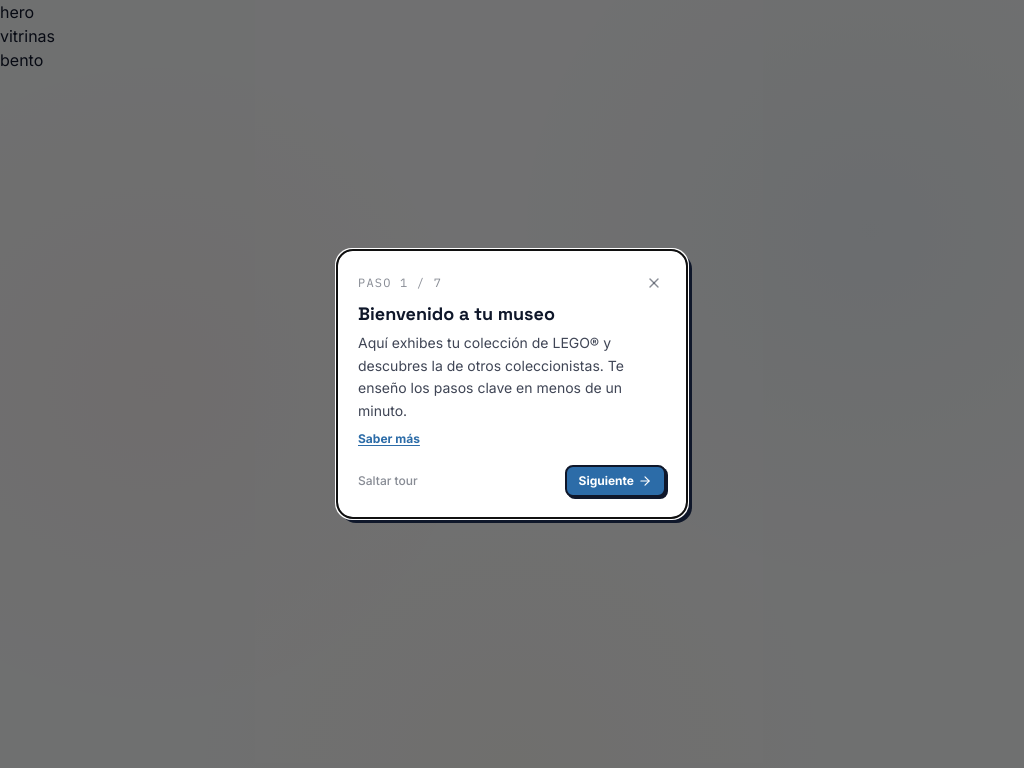
Test: TourOverlay › retrocede con 'Anterior' (visible solo a partir del paso 2)
Expected: the dialog is shown, [336,249,688,519]
Expected: the button "anterior" is not shown
Click the button "Siguiente".
click(615, 481)  # box [564,465,666,497]
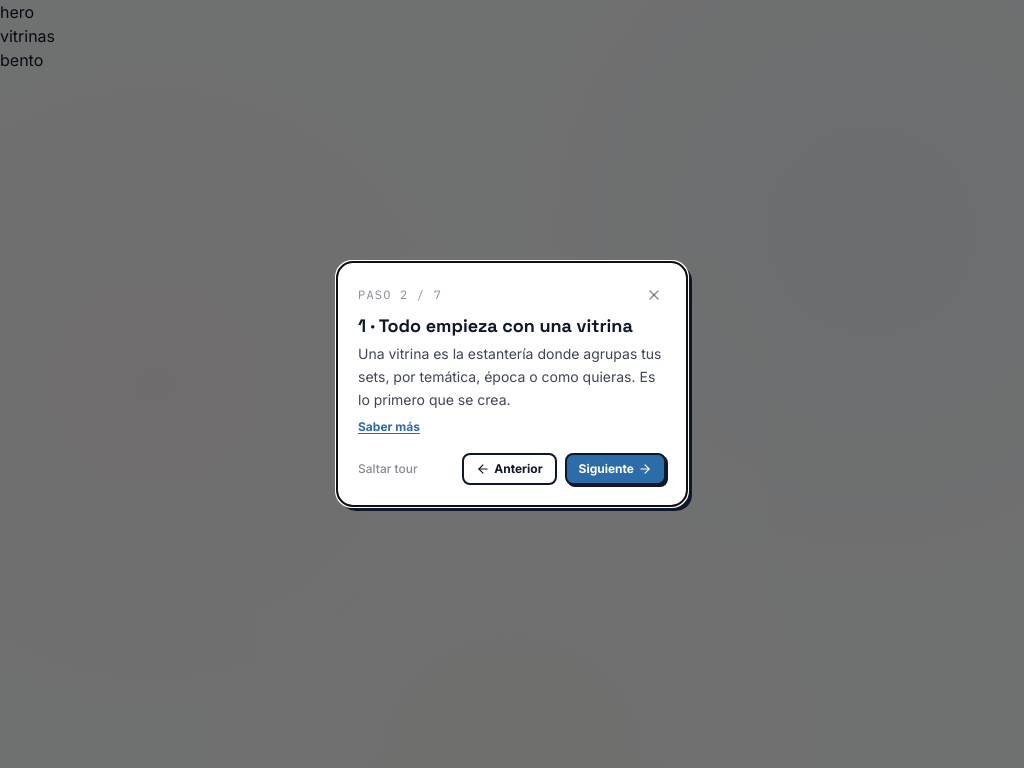
Result: the heading "1 · Todo empieza con una vitrina" is shown at [358,315,666,337]
Click the button "Anterior".
click(509, 469)  # box [462,453,556,485]
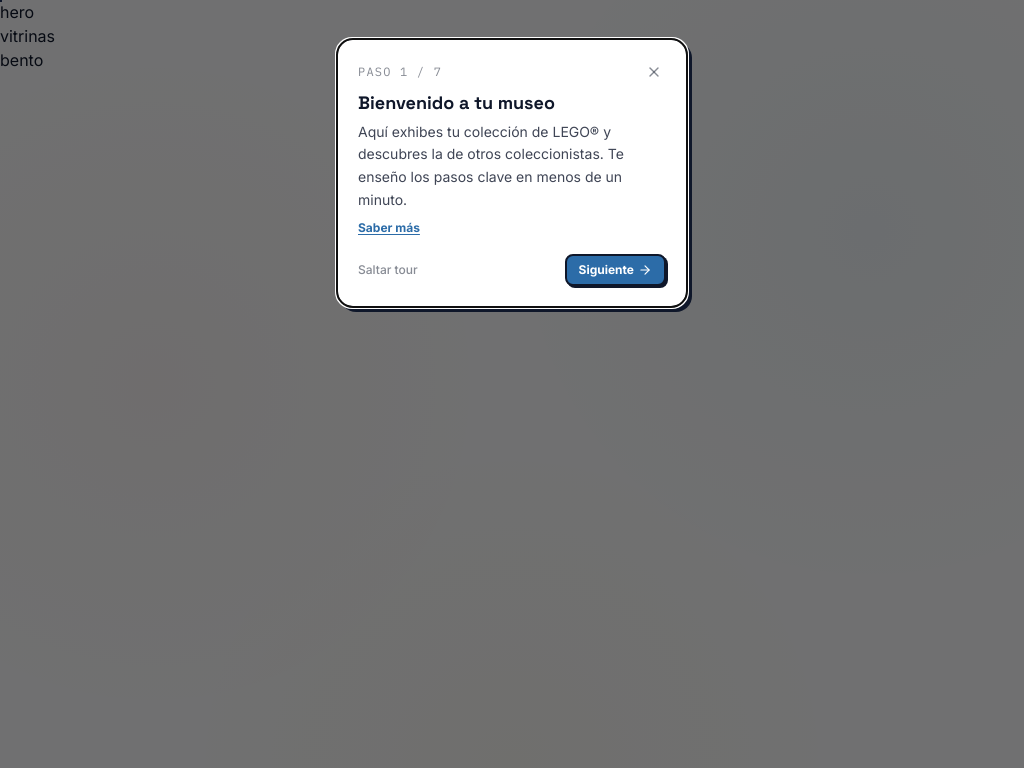
Result: the heading "Bienvenido a tu museo" is shown at [358,91,555,114]
